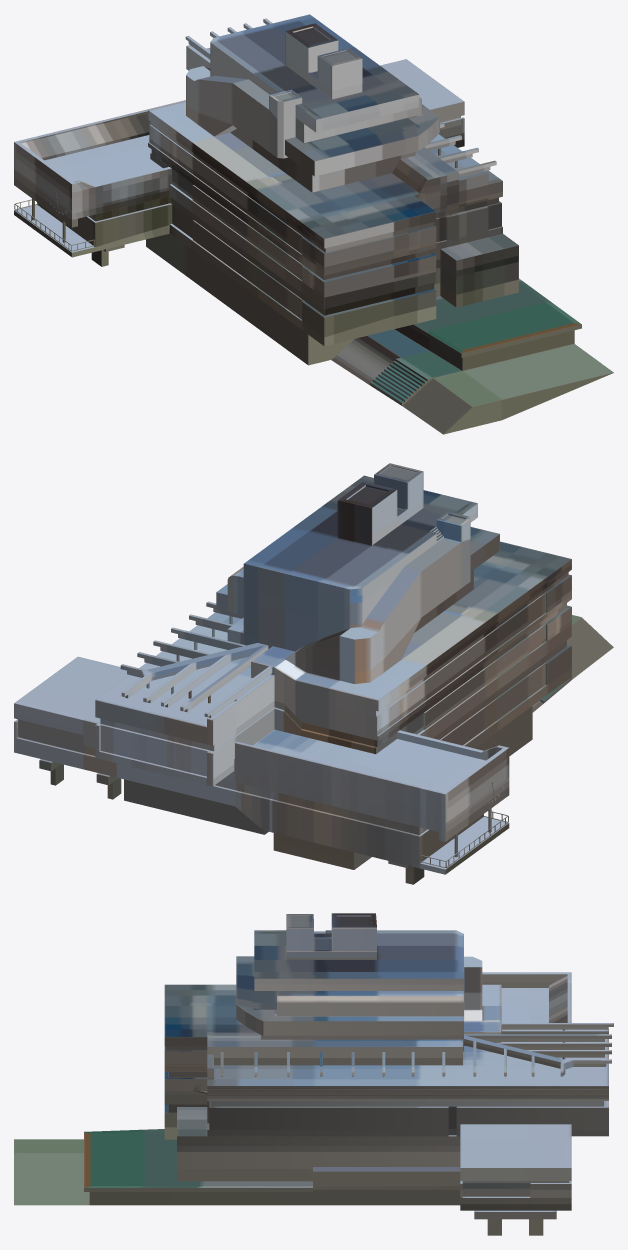
Rendered from terneuzen_textured.obj.
3 renders of one model, top to bottom at view 1: azimuth 30°, elevation 25°; view 2: azimuth 150°, elevation 25°; view 3: azimuth 270°, elevation 25°, orthographic. The views are drawn at different scales.
Parts seen in each view (by area): view 1: TarneuzenStadHuis_Cube.001; view 2: TarneuzenStadHuis_Cube.001; view 3: TarneuzenStadHuis_Cube.001.
Boxes of the visible parts, bbox=[...] form: TarneuzenStadHuis_Cube.001: bbox=[14, 14, 613, 434]; TarneuzenStadHuis_Cube.001: bbox=[14, 463, 613, 884]; TarneuzenStadHuis_Cube.001: bbox=[14, 913, 613, 1235].
Bounding box in the file's own units: 32.59 × 20.42 × 45.06.
Materials: 1 (1 with a texture image).
